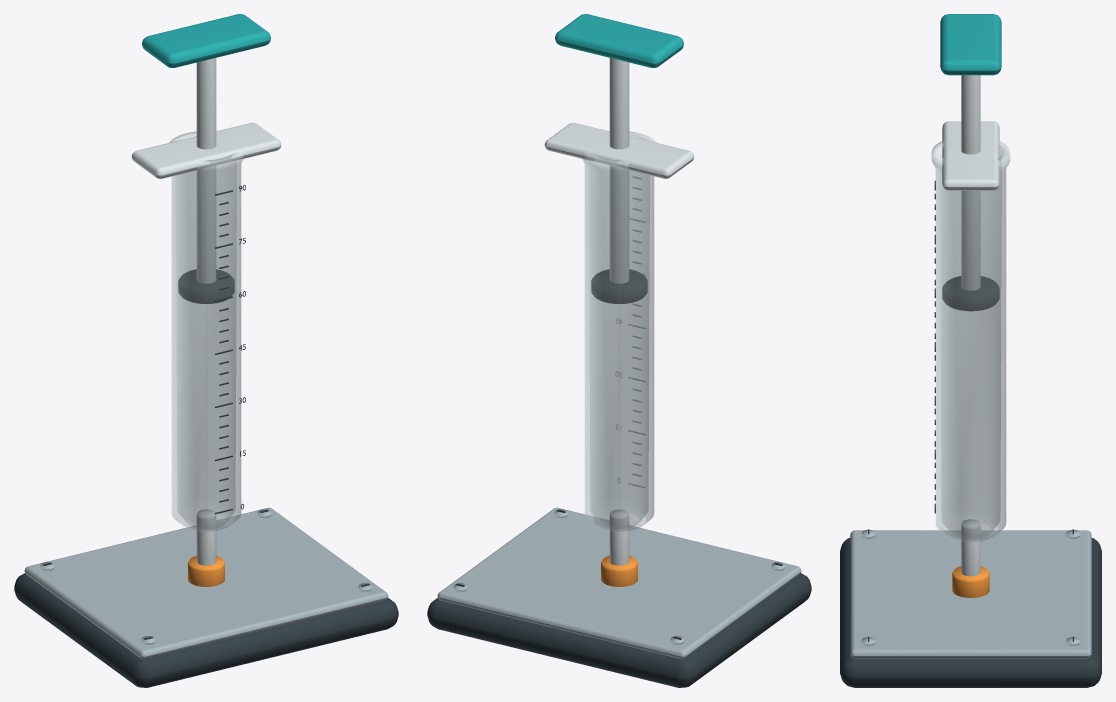
The model's file is syringe.glb.
3 renders of one model, left to right at view 1: azimuth 30°, elevation 25°; view 2: azimuth 150°, elevation 25°; view 3: azimuth 270°, elevation 25°, orthographic.
Visible parts, largest first — view 1: Satin upper panel, Syringe transparent barrel, Machined plinth, pistonHandle, Finger flange, pistonRod, pistonSeal, Syringe closed nozzle, syringeCap; view 2: Satin upper panel, Syringe transparent barrel, Machined plinth, pistonHandle, Finger flange, pistonRod, pistonSeal, Syringe closed nozzle, syringeCap; view 3: Satin upper panel, Syringe transparent barrel, Machined plinth, pistonHandle, pistonRod, Finger flange, pistonSeal, Syringe closed nozzle, syringeCap.
Part boxes in pixels (x1,y1,x2,y2): Satin upper panel: [24, 507, 388, 659]; Syringe transparent barrel: [169, 131, 243, 531]; Machined plinth: [14, 573, 398, 687]; pistonHandle: [142, 14, 270, 67]; Finger flange: [131, 122, 281, 178]; pistonRod: [196, 58, 216, 283]; pistonSeal: [178, 269, 234, 303]; Syringe closed nozzle: [196, 509, 216, 565]; syringeCap: [188, 555, 224, 586]; Satin upper panel: [437, 507, 801, 659]; Syringe transparent barrel: [582, 131, 656, 531]; Machined plinth: [427, 573, 811, 687]; pistonHandle: [555, 14, 683, 67]; Finger flange: [544, 122, 694, 178]; pistonRod: [609, 58, 629, 283]; pistonSeal: [591, 269, 647, 303]; Syringe closed nozzle: [609, 509, 629, 565]; syringeCap: [601, 555, 637, 586]; Satin upper panel: [850, 530, 1091, 658]; Syringe transparent barrel: [931, 140, 1010, 541]; Machined plinth: [840, 538, 1101, 687]; pistonHandle: [940, 14, 1001, 75]; pistonRod: [961, 75, 980, 290]; Finger flange: [942, 121, 999, 190]; pistonSeal: [942, 276, 999, 310]; Syringe closed nozzle: [961, 519, 980, 576]; syringeCap: [952, 566, 989, 597].
Size of the model in its own units: 0.38 by 0.797 by 0.32.
